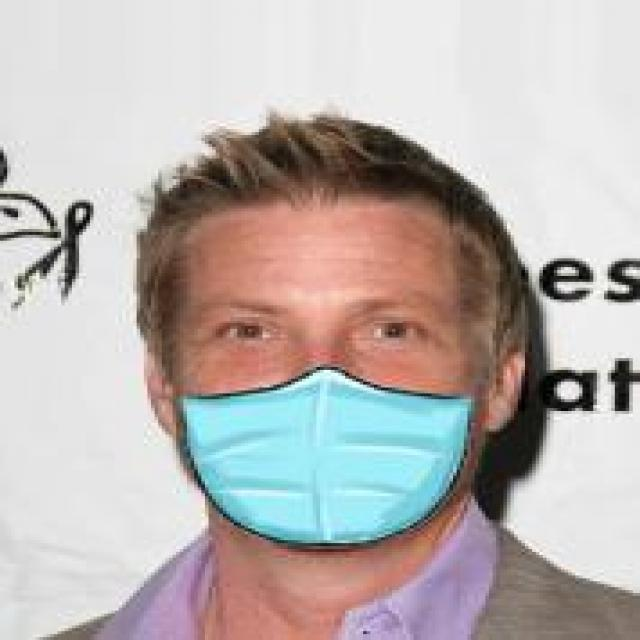mask: (126, 91, 575, 558)
